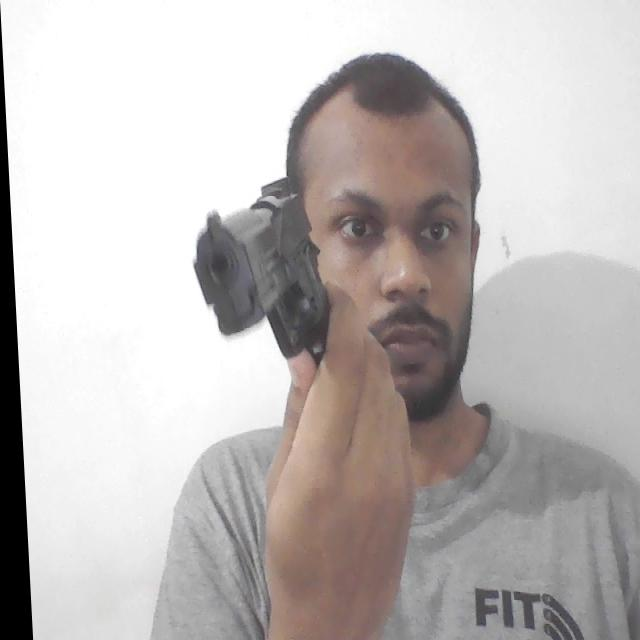handgun: (188, 175, 331, 367)
